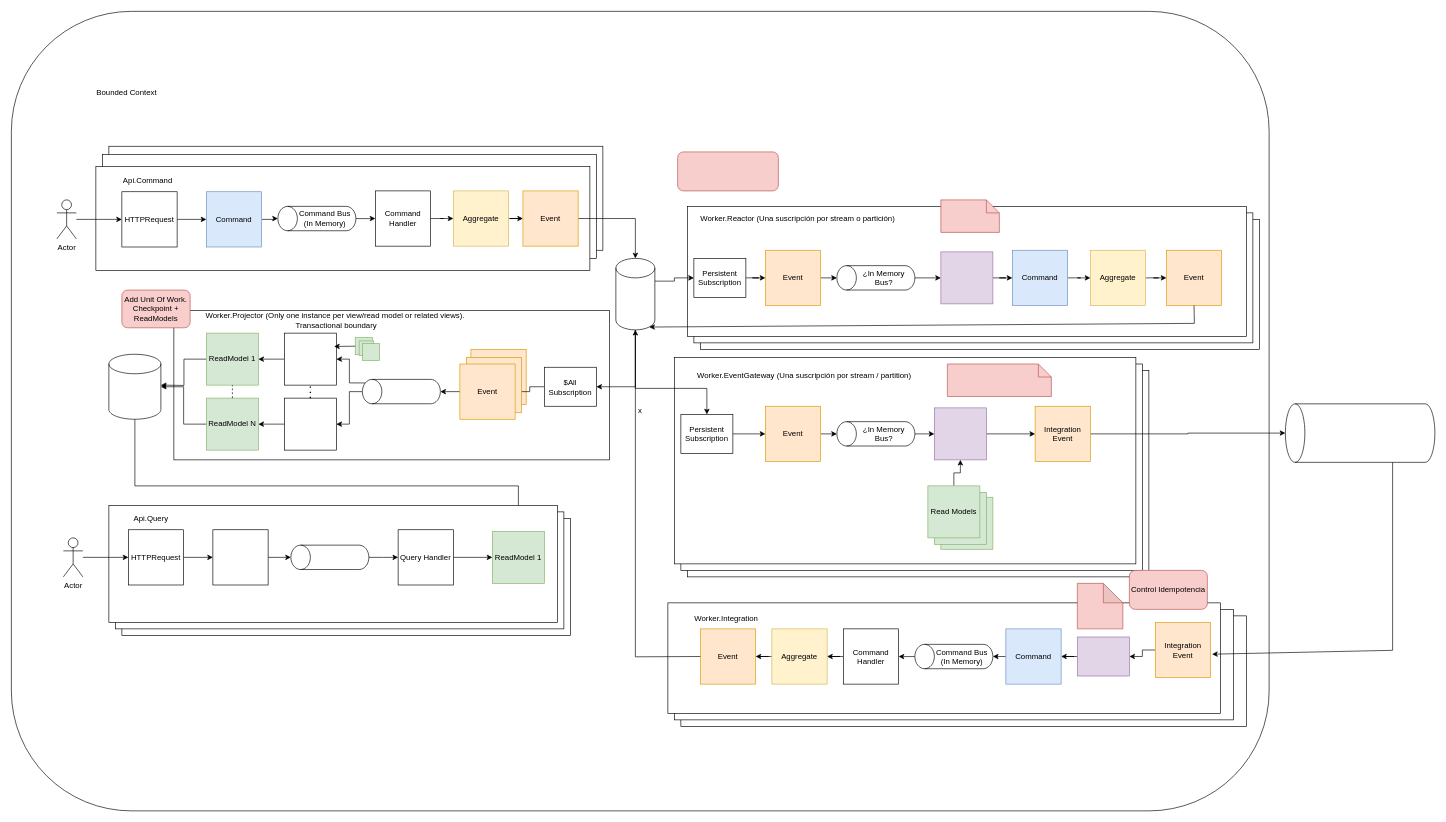
This 1446x822 diagram has some shape labels left out. The centre of each missing label's shape, as x and y in pixels:
"Consumer Policy" goes at [1103,656].
"Consumidores en competencia. Eventos desordenados y repetidos" goes at [727,171].
"Enricher Policy" goes at [960,433].
"Event Bus (In Memory)" goes at [401,391].
"EventStore DB" goes at [635,294].
"External Sagas" goes at [1100,606].
"Integration Bus" goes at [1360,432].
"Internal Sagas" goes at [969,215].
"Internal Sagas (complex projections with state sagas)" goes at [999,379].
"Policy" goes at [966,277].
"Projector 1" goes at [310,358].
"Projector N" goes at [310,423].
"Query" goes at [240,557].
"Query Bus (In memory)" goes at [329,557].
"ReadModelStore" goes at [134,386].
